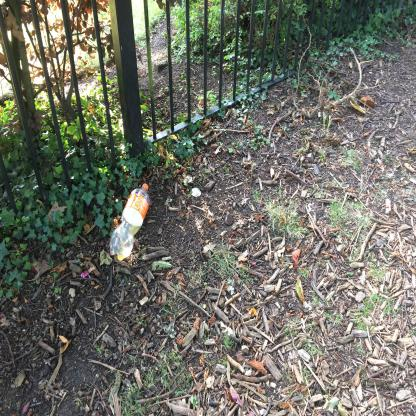plastik: (109, 183, 150, 261)
